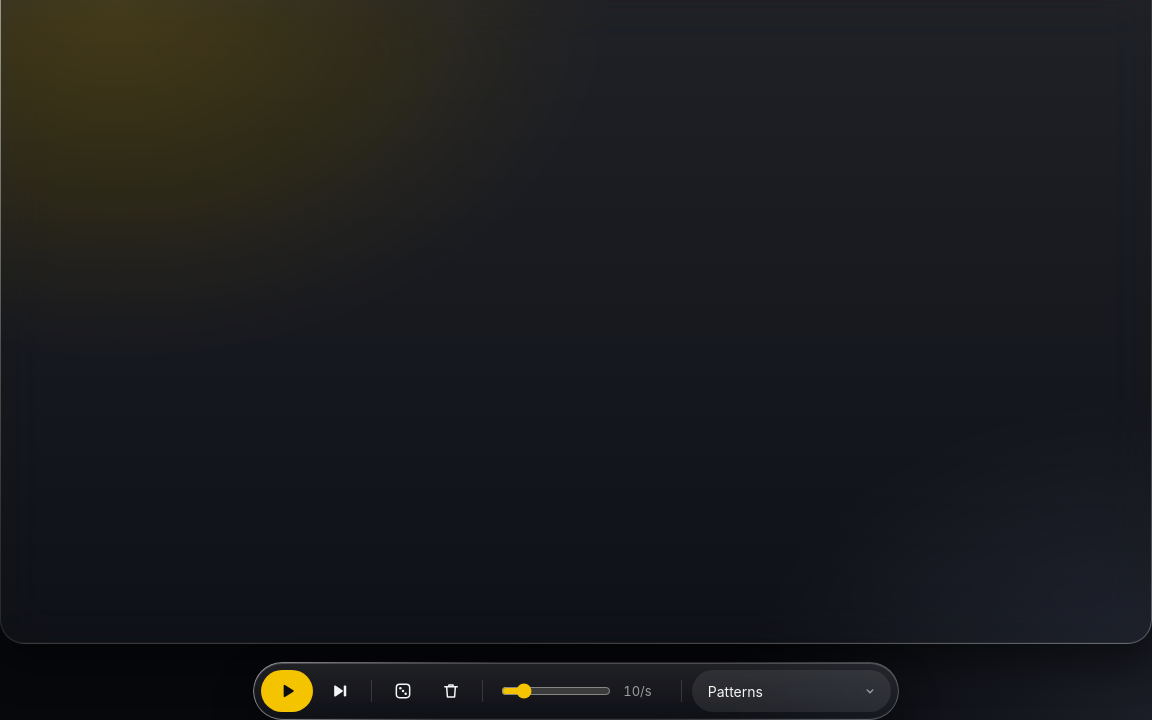
Test case: <GameOfLife /> › fills the board with random cells
(page scrolled)
Click the button named "Random": (403, 691) 382,670 -> 424,712
(page scrolled)
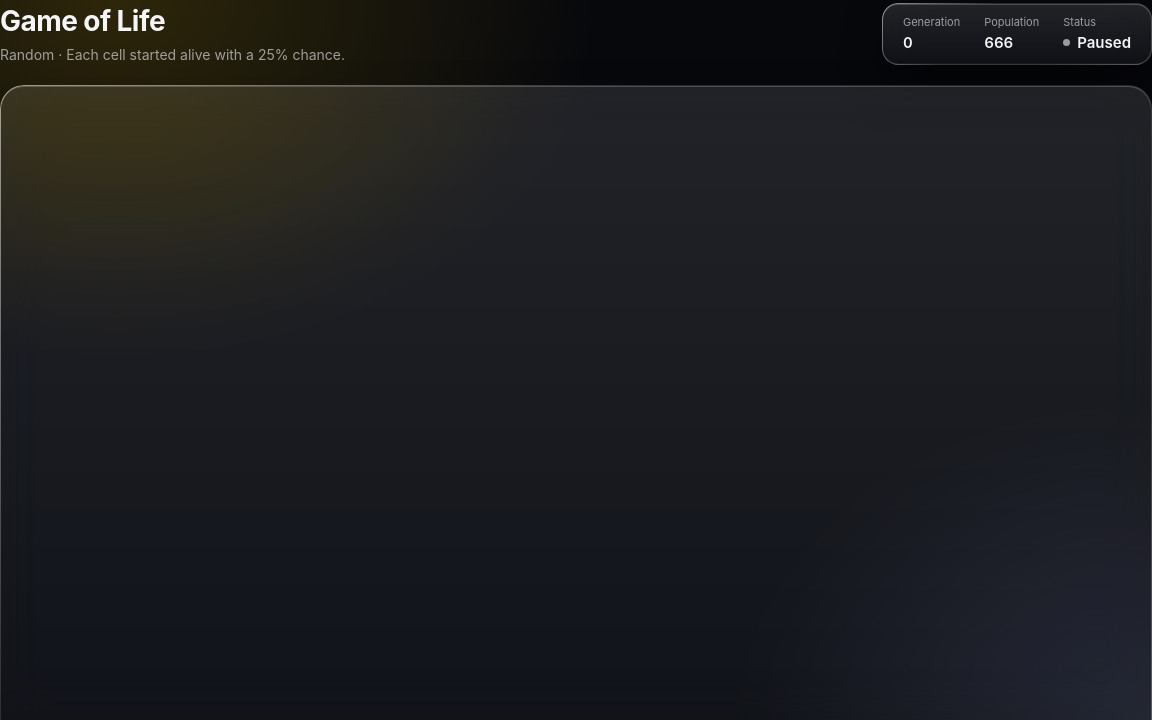
Expected: the text with test id "pattern-name" reads "Random", 0,46 -> 54,63
